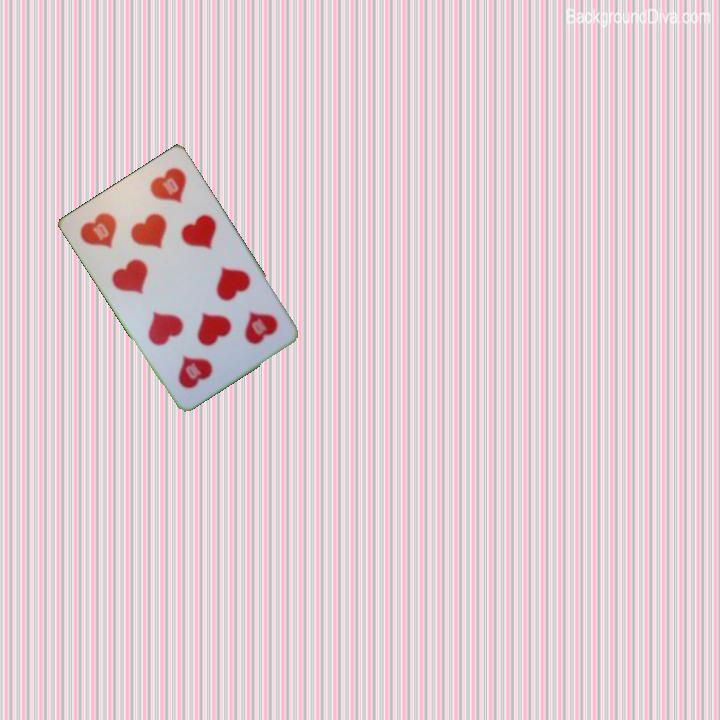h_10.png: (205, 286, 290, 369), (70, 190, 156, 272)
